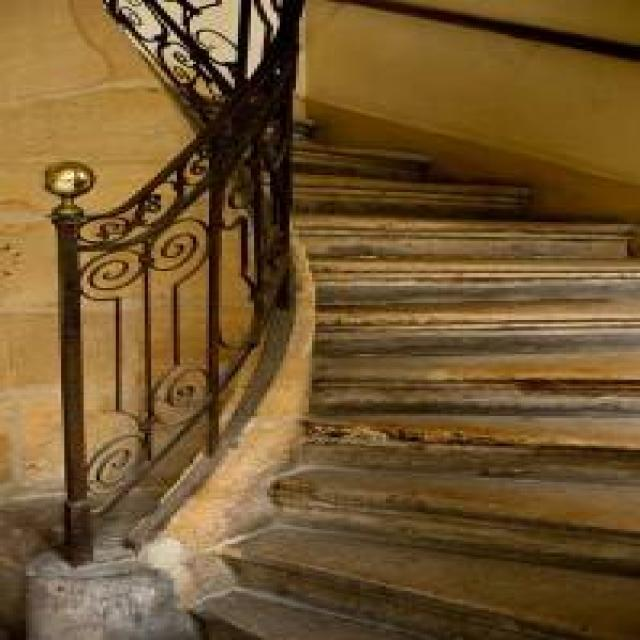stairs: (186, 130, 637, 638)
